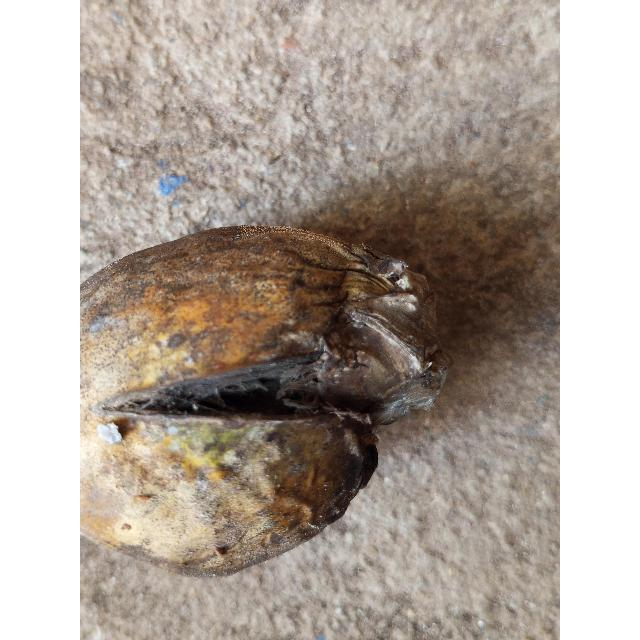damaged: (80, 226, 445, 577)
